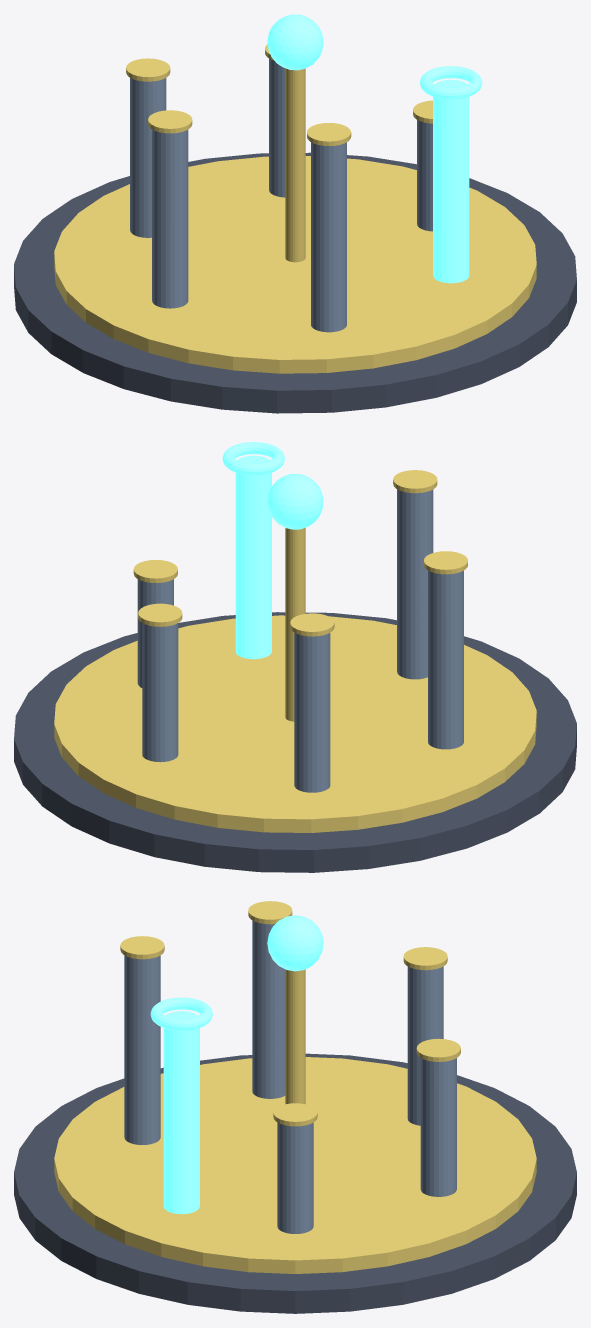
File: euler_spiral.glb
3 views of the same model, one above another, from view 1: azimuth 30°, elevation 25°; view 2: azimuth 150°, elevation 25°; view 3: azimuth 270°, elevation 25° (orthographic).
Visible parts, largest first — view 1: Bernoulli_Pedestal_Ring, Bernoulli_Pedestal_Base, Bernoulli_Pillar_n_999999, Bernoulli_Pillar_n_365, Bernoulli_Pillar_n_12, Euler_Central_Axis, Bernoulli_Pillar_n_4, Euler_Number_Apex, Bernoulli_Pillar_n_2, Bernoulli_Pillar_n_1, Euler_Limit_Crown, Bernoulli_Cap_n_12 (+2 smaller); view 2: Bernoulli_Pedestal_Ring, Bernoulli_Pedestal_Base, Bernoulli_Pillar_n_999999, Bernoulli_Pillar_n_12, Bernoulli_Pillar_n_365, Bernoulli_Pillar_n_4, Bernoulli_Pillar_n_2, Euler_Central_Axis, Euler_Number_Apex, Euler_Limit_Crown, Bernoulli_Pillar_n_1, Bernoulli_Cap_n_2 (+4 smaller); view 3: Bernoulli_Pedestal_Ring, Bernoulli_Pedestal_Base, Bernoulli_Pillar_n_999999, Bernoulli_Pillar_n_365, Bernoulli_Pillar_n_12, Bernoulli_Pillar_n_2, Bernoulli_Pillar_n_1, Bernoulli_Pillar_n_4, Euler_Central_Axis, Euler_Number_Apex, Euler_Limit_Crown, Bernoulli_Cap_n_1 (+4 smaller).
Part boxes in pixels (x1,y1,x2,y2): Bernoulli_Pedestal_Ring: (54, 156, 536, 373); Bernoulli_Pedestal_Base: (14, 152, 576, 413); Bernoulli_Pillar_n_999999: (433, 79, 469, 283); Bernoulli_Pillar_n_365: (311, 142, 346, 332); Bernoulli_Pillar_n_12: (152, 129, 188, 308); Euler_Central_Axis: (285, 68, 305, 262); Bernoulli_Pillar_n_4: (130, 78, 166, 237); Euler_Number_Apex: (267, 14, 323, 70); Bernoulli_Pillar_n_2: (269, 58, 285, 197); Bernoulli_Pillar_n_1: (417, 120, 432, 231); Euler_Limit_Crown: (420, 66, 482, 99); Bernoulli_Cap_n_12: (148, 110, 192, 133); Bernoulli_Pedestal_Ring: (54, 615, 536, 832); Bernoulli_Pedestal_Base: (14, 612, 576, 872); Bernoulli_Pillar_n_999999: (235, 455, 271, 659); Bernoulli_Pillar_n_12: (428, 570, 463, 749); Bernoulli_Pillar_n_365: (397, 489, 433, 679); Bernoulli_Pillar_n_4: (294, 633, 330, 792); Bernoulli_Pillar_n_2: (142, 623, 178, 762); Euler_Central_Axis: (285, 527, 305, 721); Euler_Number_Apex: (267, 474, 323, 529); Euler_Limit_Crown: (222, 442, 284, 475); Bernoulli_Pillar_n_1: (137, 579, 173, 687); Bernoulli_Cap_n_2: (138, 603, 182, 626); Bernoulli_Pedestal_Ring: (54, 1057, 536, 1273); Bernoulli_Pedestal_Base: (14, 1053, 576, 1313); Bernoulli_Pillar_n_999999: (163, 1011, 199, 1214); Bernoulli_Pillar_n_365: (124, 955, 160, 1144); Bernoulli_Pillar_n_12: (252, 920, 285, 1098); Bernoulli_Pillar_n_2: (420, 1058, 456, 1196); Bernoulli_Pillar_n_1: (277, 1122, 313, 1233); Bernoulli_Pillar_n_4: (407, 966, 443, 1125); Euler_Central_Axis: (285, 969, 305, 1104); Euler_Number_Apex: (267, 915, 323, 971); Euler_Limit_Crown: (150, 997, 212, 1030); Bernoulli_Cap_n_1: (273, 1103, 317, 1126).
Size of the model in its own units: 5.6 by 3.04 by 5.6.
